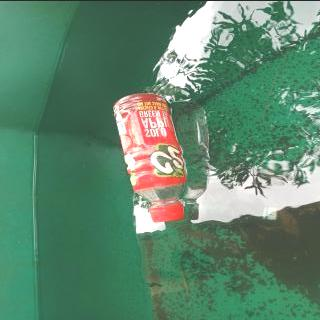bottle: (111, 91, 188, 222)
